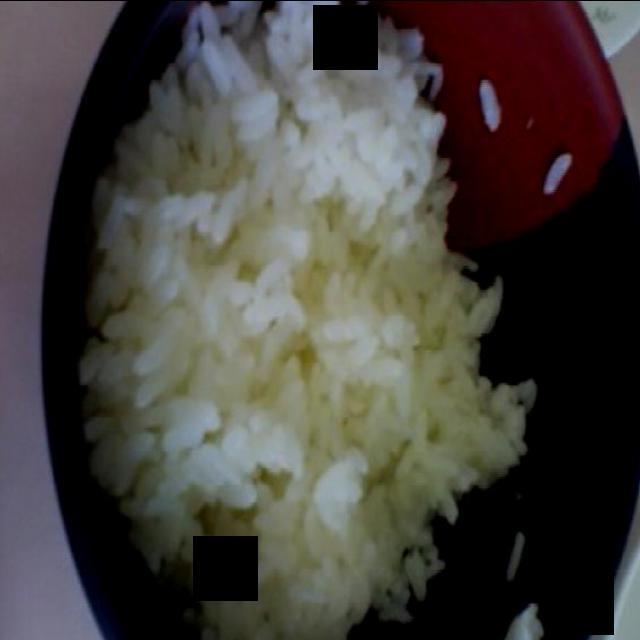rice: (83, 0, 541, 640)
